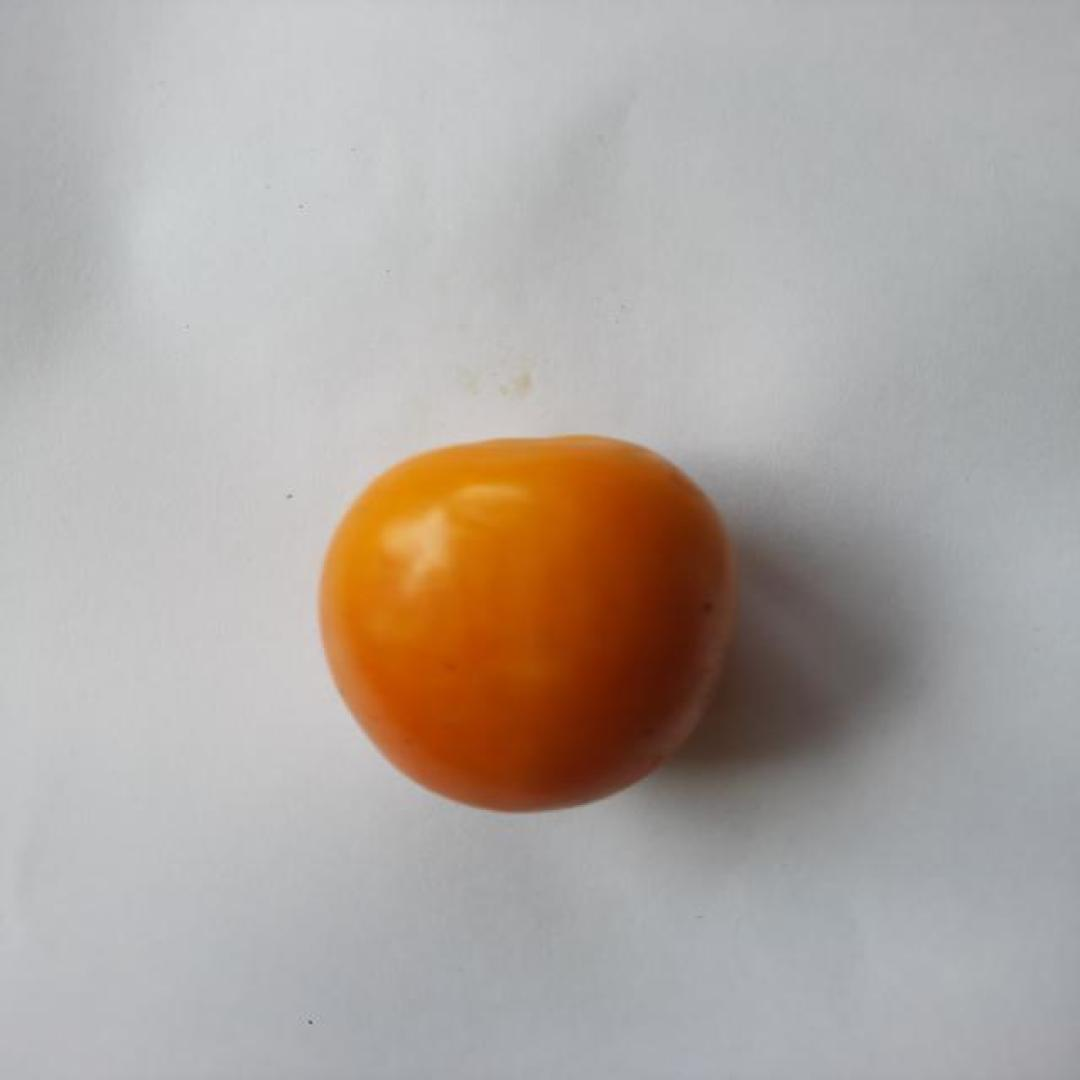setengah_matang: (314, 434, 741, 815)
